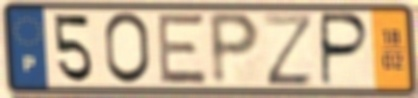5: (51, 12, 95, 84)
E: (156, 11, 210, 86)
O: (102, 10, 153, 87)
P: (207, 9, 263, 89), (319, 10, 372, 89)
Z: (261, 11, 316, 88)
